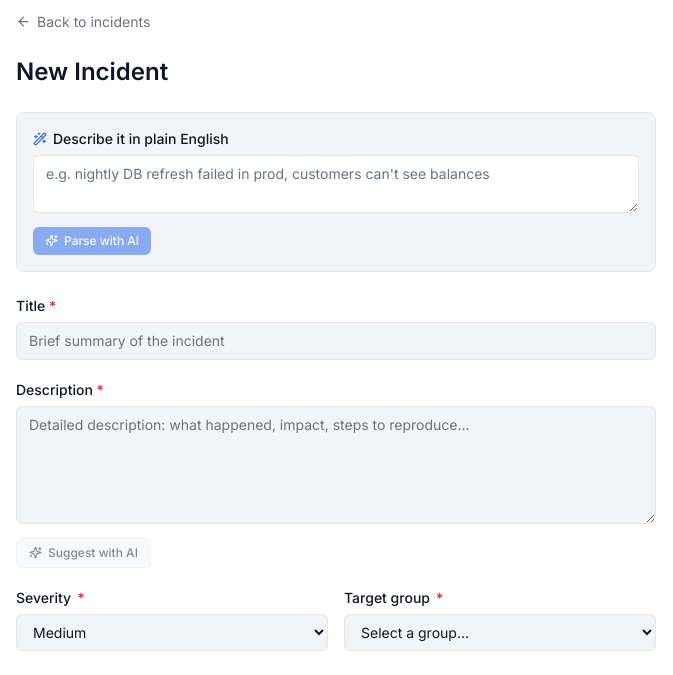
CreateIncidentPage › disables the Suggest with AI button until description meets the minimum length
Check: the button "Suggest with AI" is disabled, box [16, 538, 151, 568]
Replace the text in the text box with placeholder "Detailed description" with "Customers cannot see balances after the job failed.": (336, 464) [16, 406, 656, 524]
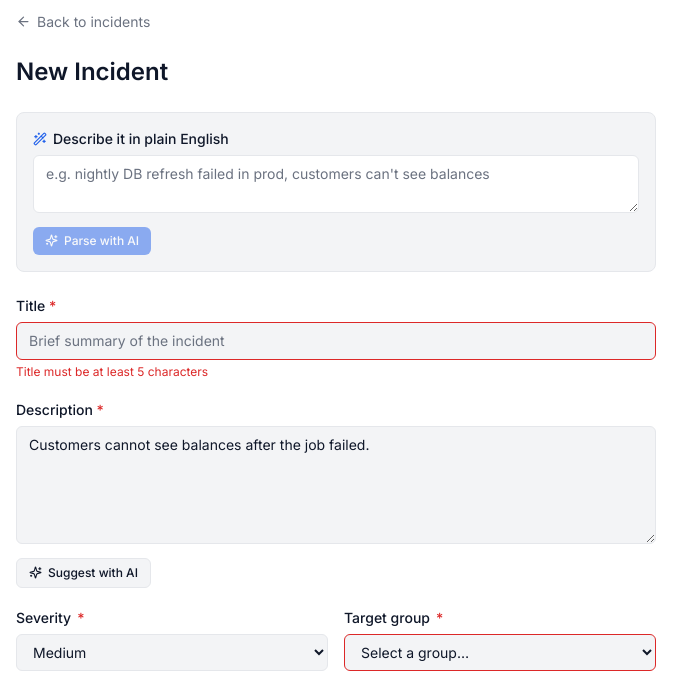
Check: the button "Suggest with AI" is enabled, box [16, 558, 151, 588]
